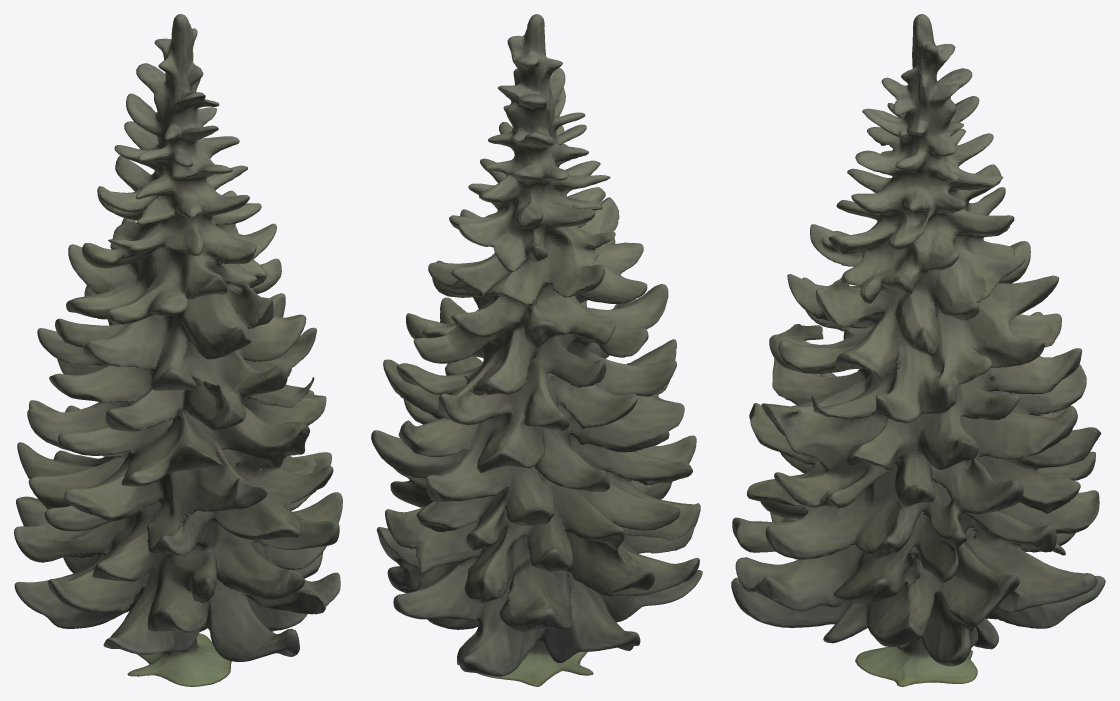
Rendered from sam3d_verify2.glb.
The picture shows the model from 3 angles, left to right: view 1: azimuth 30°, elevation 25°; view 2: azimuth 150°, elevation 25°; view 3: azimuth 270°, elevation 25°; orthographic projection.
Parts seen in each view (by area): view 1: geometry_0; view 2: geometry_0; view 3: geometry_0.
Part boxes in pixels (bbox=[...]): geometry_0: bbox=[14, 14, 342, 686]; geometry_0: bbox=[371, 14, 702, 686]; geometry_0: bbox=[731, 14, 1105, 686].
Size of the model in its own units: 0.4643 by 0.9998 by 0.523.
